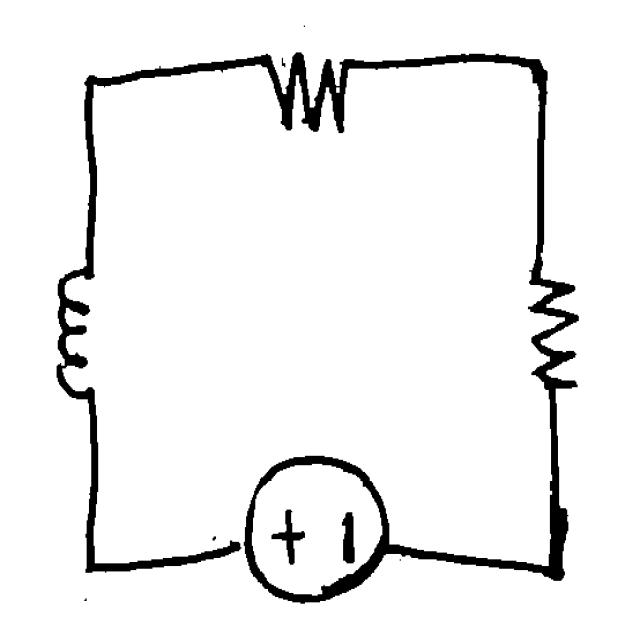dc: (227, 439, 406, 613)
inductor: (38, 239, 122, 434)
resistor: (248, 28, 372, 152), (514, 249, 592, 416)
